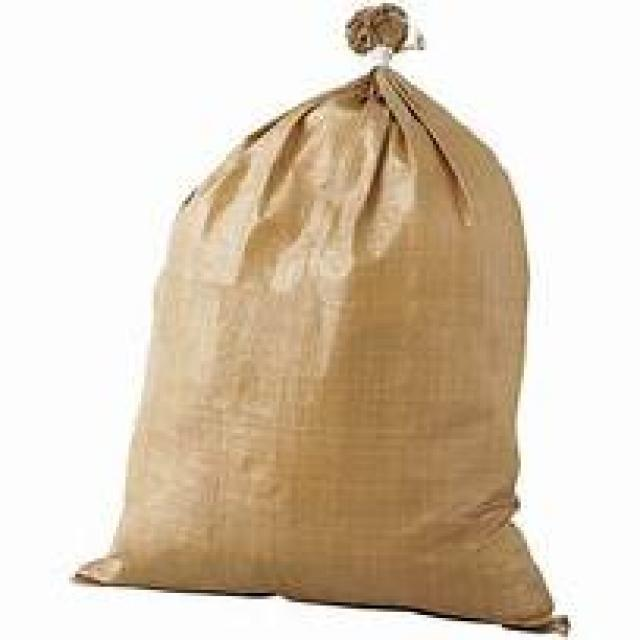gunny_bag: (63, 3, 580, 634)
